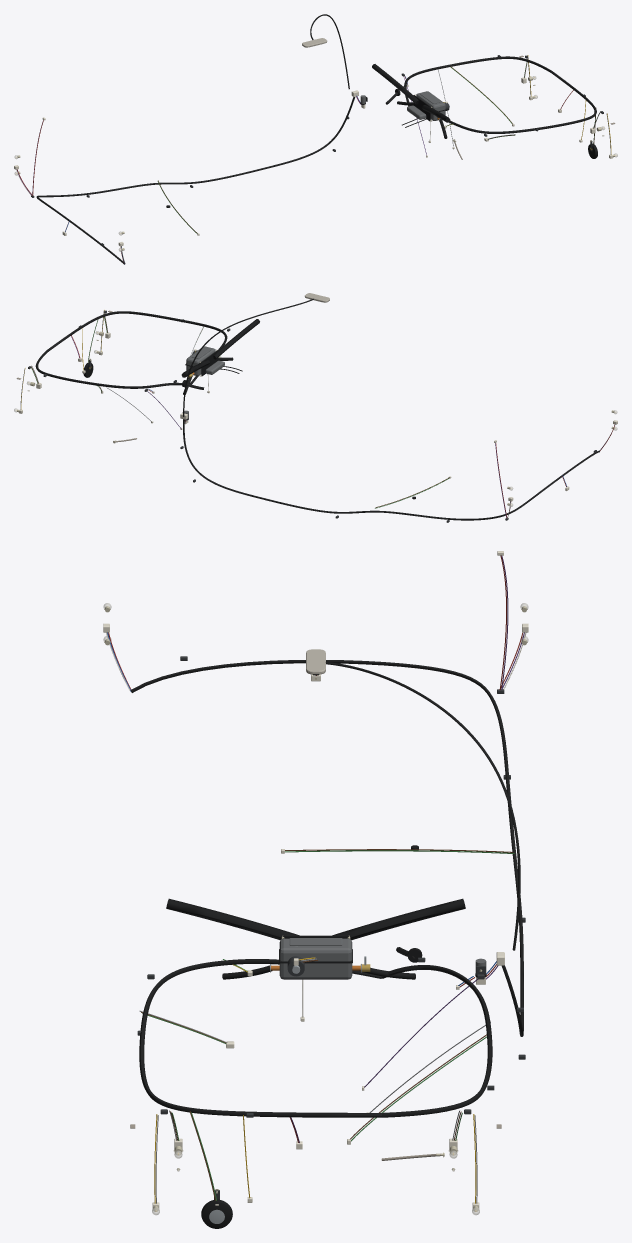
The model's file is electricite.glb.
The picture shows the model from 3 angles, top to bottom: view 1: azimuth 30°, elevation 25°; view 2: azimuth 150°, elevation 25°; view 3: azimuth 270°, elevation 25°; orthographic projection. The views are drawn at different scales.
Visible parts, largest first — view 1: faisceau-arriere.gaine-faisceau, faisceau-avant.gaine-faisceau, chauffage.noir, chauffage.plastique-gris; view 2: faisceau-arriere.gaine-faisceau, faisceau-avant.gaine-faisceau, chauffage.noir, chauffage.plastique-gris; view 3: faisceau-avant.gaine-faisceau, faisceau-arriere.gaine-faisceau, chauffage.noir, chauffage.plastique-gris.
Boxes of the visible parts, x1,y1,x2,y2 form: faisceau-arriere.gaine-faisceau: [36, 14, 355, 264]; faisceau-avant.gaine-faisceau: [385, 56, 596, 133]; chauffage.noir: [372, 64, 450, 127]; chauffage.plastique-gris: [407, 91, 445, 120]; faisceau-arriere.gaine-faisceau: [183, 298, 599, 520]; faisceau-avant.gaine-faisceau: [35, 311, 227, 389]; chauffage.noir: [181, 319, 259, 377]; chauffage.plastique-gris: [186, 346, 224, 375]; faisceau-avant.gaine-faisceau: [139, 947, 492, 1117]; faisceau-arriere.gaine-faisceau: [130, 660, 523, 1036]; chauffage.noir: [166, 898, 465, 963]; chauffage.plastique-gris: [279, 938, 352, 979].
Bounding box in the file's own units: 3.6 × 1.14 × 1.29.
